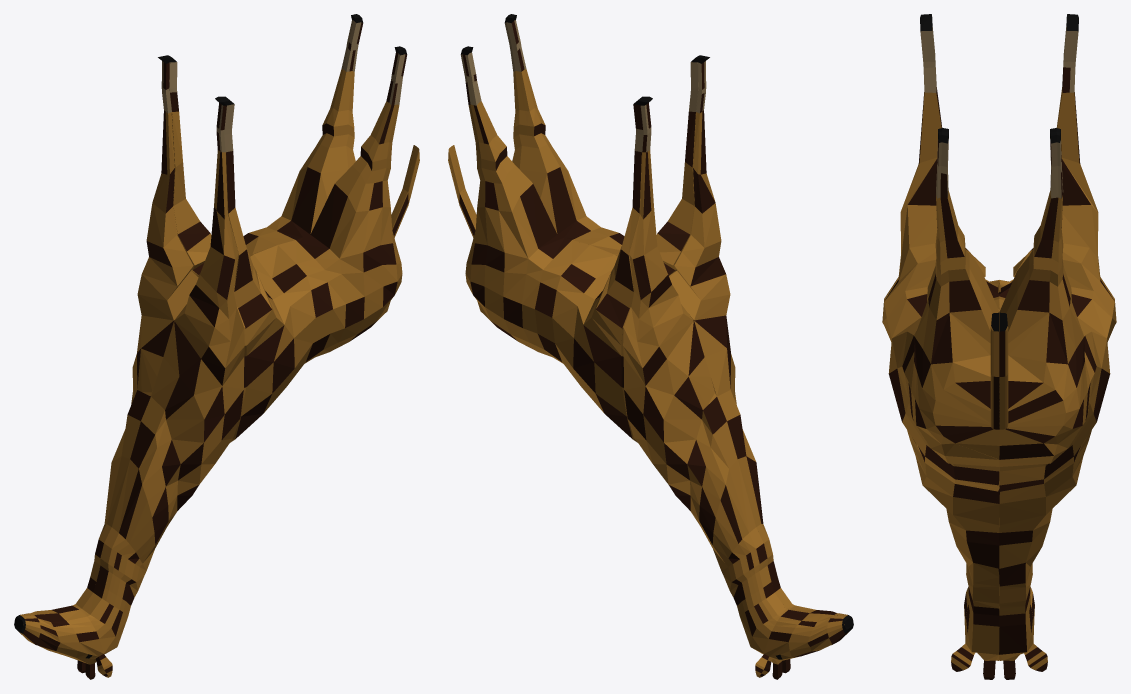
The model's file is Giraffe.FBX.
The picture shows the model from 3 angles, left to right: view 1: azimuth 30°, elevation 25°; view 2: azimuth 150°, elevation 25°; view 3: azimuth 270°, elevation 25°; orthographic projection. The views are drawn at different scales.
Parts seen in each view (by area): view 1: Cylinder002; view 2: Cylinder002; view 3: Cylinder002.
Boxes of the visible parts, x1,y1,x2,y2 form: Cylinder002: [14, 14, 419, 679]; Cylinder002: [448, 14, 853, 679]; Cylinder002: [882, 14, 1116, 679].
Bounding box in the file's own units: 170 × 233 × 67.63.
